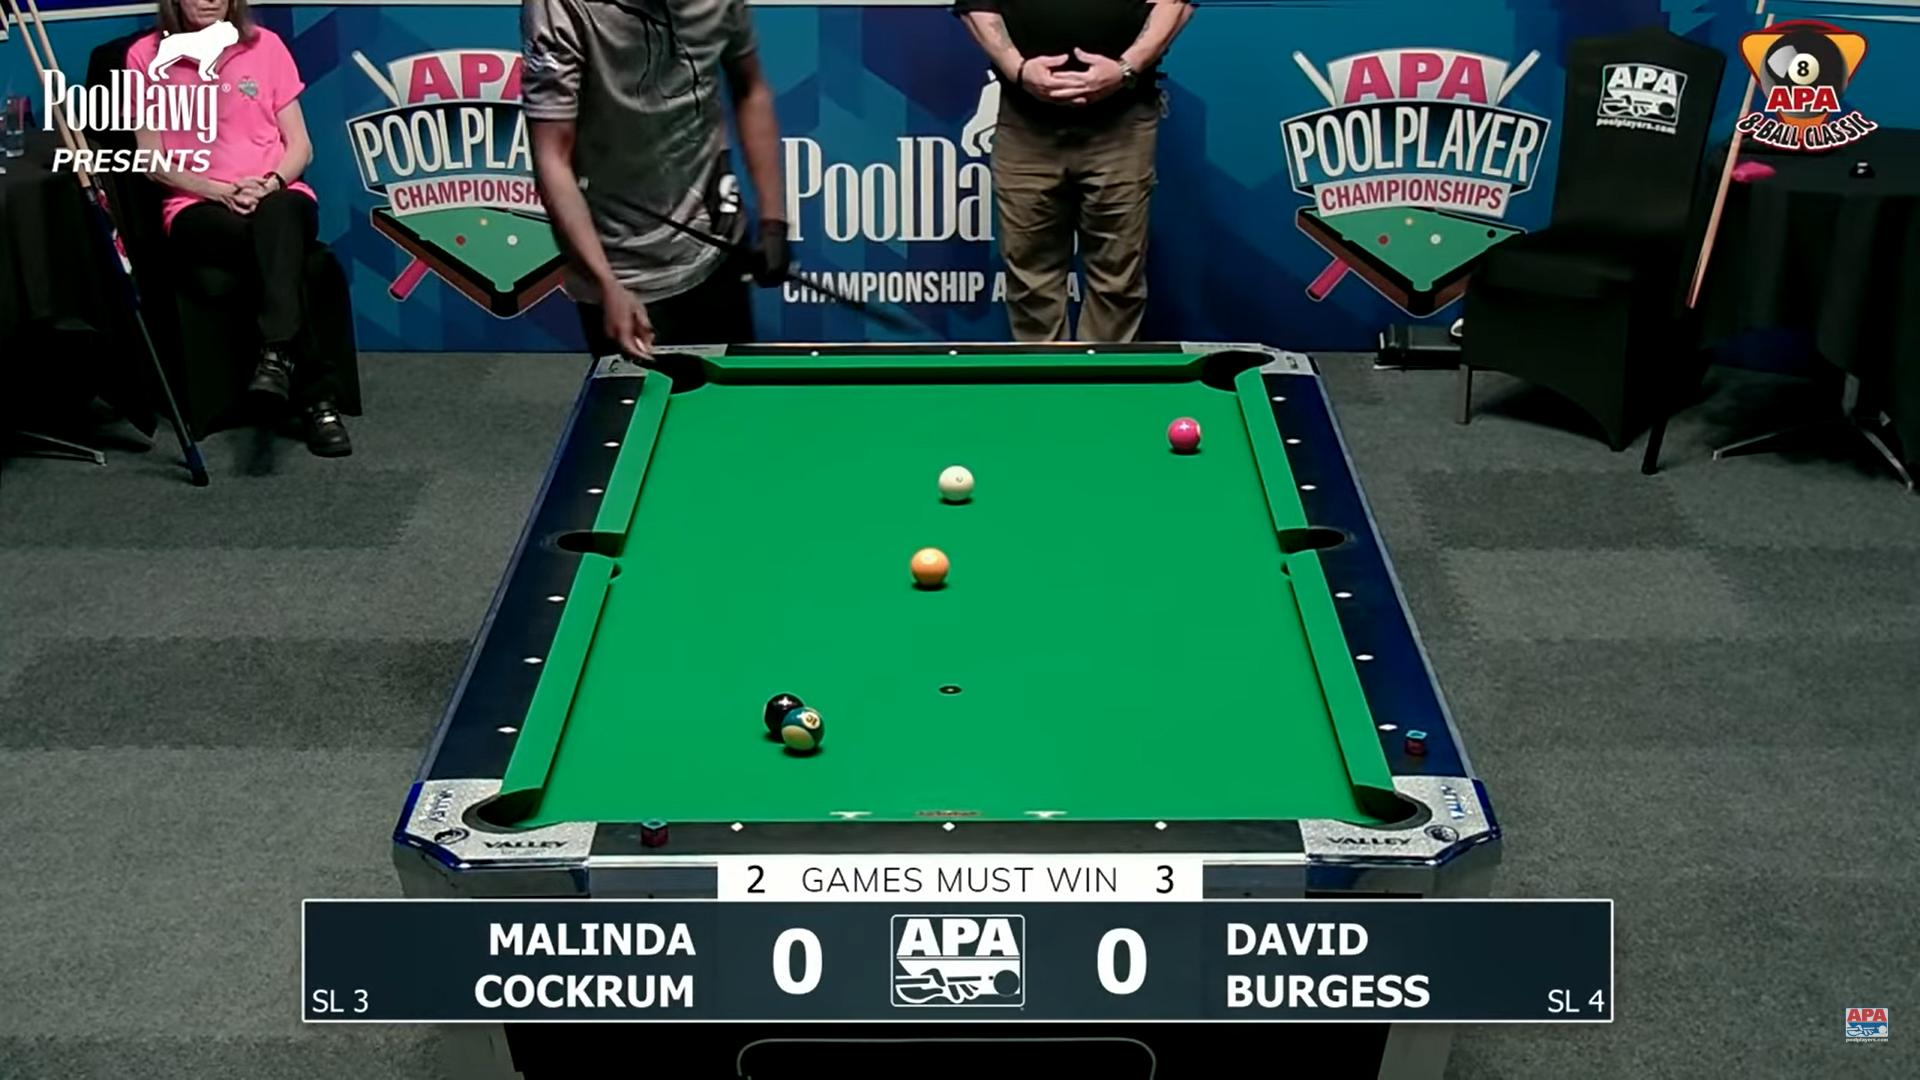Black: (762, 692, 803, 736)
Cue: (939, 465, 975, 501)
Dot: (1378, 716, 1399, 737), (1354, 649, 1375, 670), (1335, 583, 1356, 604), (1298, 476, 1319, 497), (500, 721, 518, 741), (525, 650, 545, 669), (547, 589, 566, 609), (729, 819, 746, 836), (942, 820, 959, 837), (1153, 818, 1170, 835), (1284, 433, 1302, 450), (585, 481, 603, 498), (604, 436, 621, 454), (620, 396, 637, 413), (1270, 392, 1287, 407), (810, 348, 820, 360), (948, 347, 959, 357), (1087, 348, 1097, 359)
Solid: (910, 547, 949, 584), (1168, 417, 1203, 450)
Striped: (782, 708, 825, 753)
